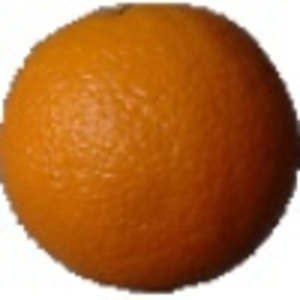laranja: (1, 2, 298, 297)
